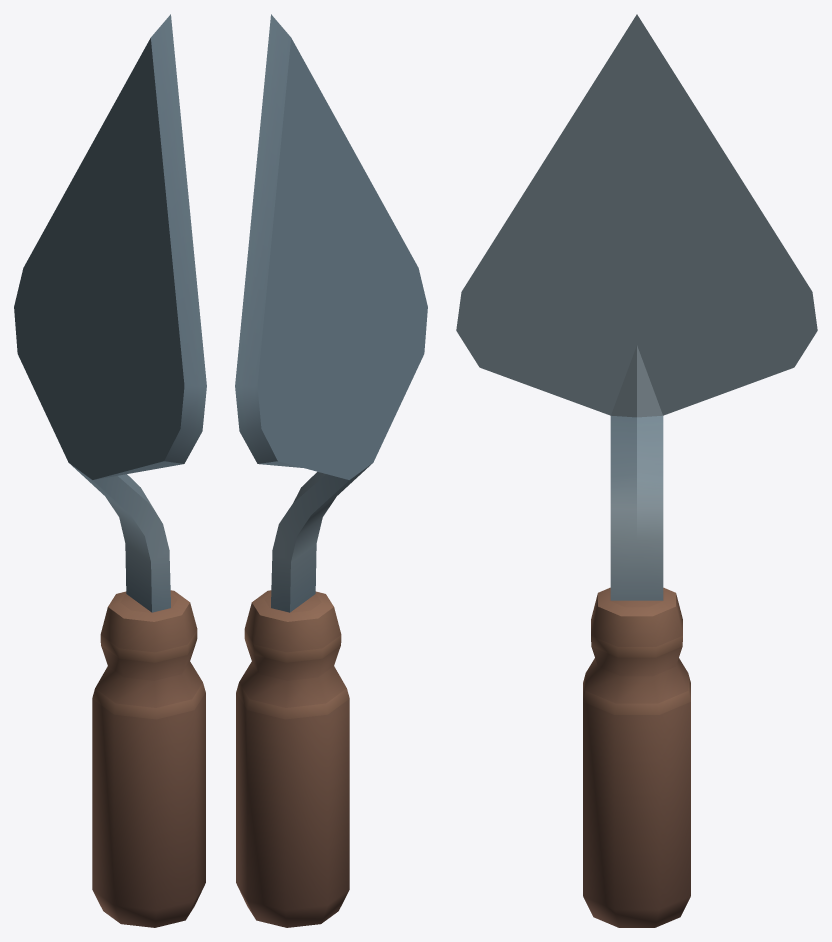
File: trowel.fbx
3 views of the same model, side by side, from view 1: azimuth 30°, elevation 25°; view 2: azimuth 150°, elevation 25°; view 3: azimuth 270°, elevation 25° (orthographic).
Visible parts, largest first — view 1: trowel; view 2: trowel; view 3: trowel.
Part boxes in pixels (box(x1,y1,x2,y2)): trowel: box(14, 14, 206, 927); trowel: box(235, 14, 427, 927); trowel: box(456, 14, 817, 927).
Size of the model in its own units: 18.86 by 142 by 50.67.
